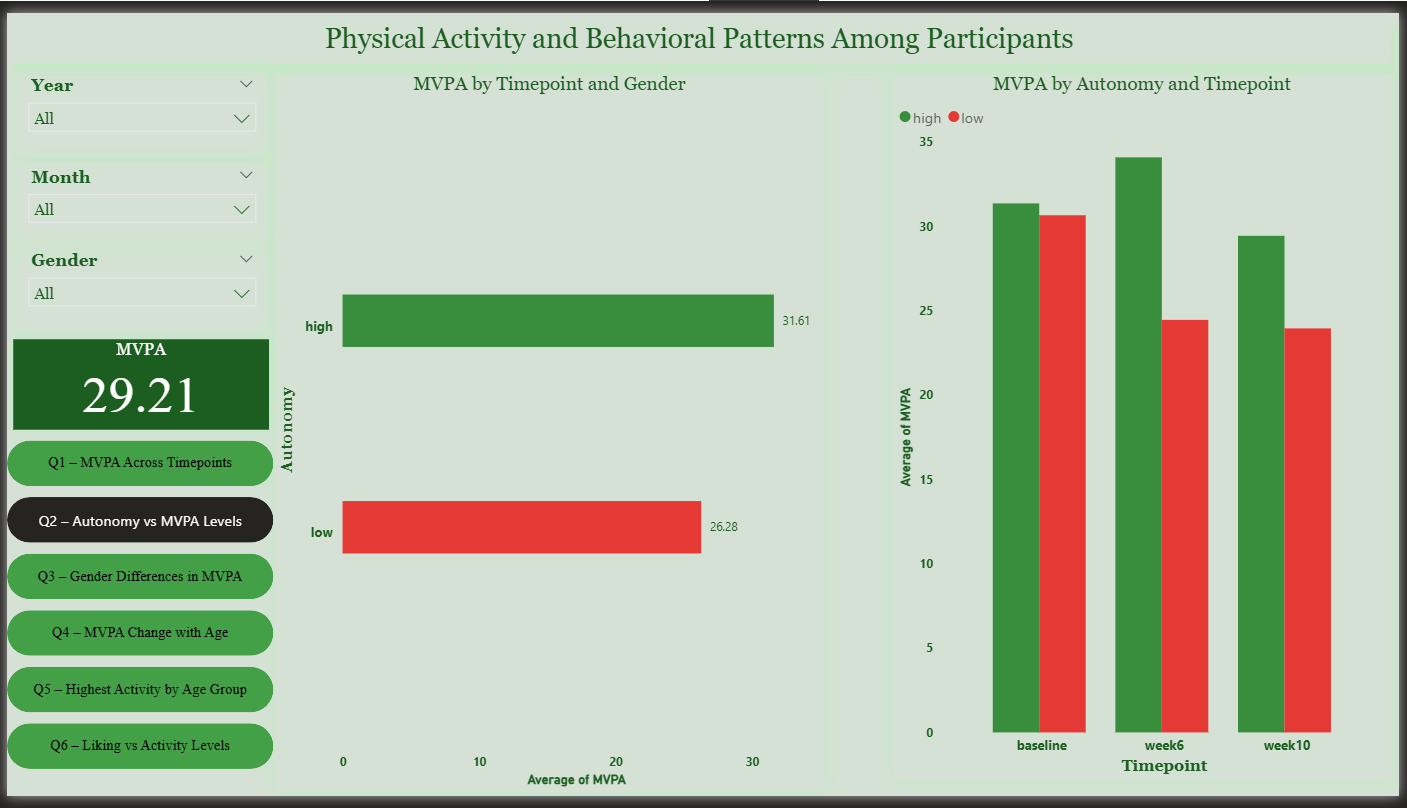

This screenshot's page, from the dashboard's own definition file:
{"tool":"powerbi","page":{"name":"Q2 – Autonomy vs MVPA Levels","canvas":[1280,720],"ordinal":1},"visuals":[{"type":"slicer","fields":{"Values":["ActivityData_Clean.File_Date.Variation.Date Hierarchy.Year"]},"box":[8.7,53.1,229.8,78.9],"z":0,"group":"g1"},{"type":"textbox","title":"Physical Activity and Behavioral Patterns Among Participants","box":[0,9.7,1272.8,37.4],"z":0},{"type":"clusteredBarChart","title":"MVPA by Timepoint and Gender","fields":{"Category":["ActivityData_Clean.Autonomy"],"Y":["Avg(ActivityData_Clean.MVPA)"]},"box":[246,55.7,505.4,661.2],"z":1000},{"type":"slicer","fields":{"Values":["ActivityData_Clean.File_Date.Variation.Date Hierarchy.Month"]},"box":[8.7,136.8,229.8,78.9],"z":1000,"group":"g1"},{"type":"clusteredColumnChart","title":"MVPA by Autonomy and Timepoint","fields":{"Category":["ActivityData_Clean.Timepoint"],"Y":["Avg(ActivityData_Clean.MVPA)"],"Series":["ActivityData_Clean.Autonomy"]},"box":[814.8,55.7,457.5,650.1],"z":2000},{"type":"slicer","fields":{"Values":["ActivityData_Clean.Gender"]},"box":[9.1,214.3,229.9,79.2],"z":2000,"group":"g1"},{"type":"group","id":"g1","title":"Group 1","box":[0,53.1,245.5,648.2],"z":3000},{"type":"kpi","title":"MVPA","fields":{"Indicator":["Avg(ActivityData_Clean.MVPA)"],"TrendLine":["LikingData_Clean.Week"]},"box":[6,299.9,235.1,83.1],"z":5000,"group":"g1"},{"type":"pageNavigator","box":[0,393.5,245.5,307.8],"z":6001,"group":"g1"}]}

Visuals, with their boxes in screenshot pixels (x1, y1, x2, y2), scaled from the page's 1280x720 canvas onto the 1407x808 screenshot:
slicer - ActivityData_Clean.File_Date.Variation.Date Hierarchy.Year: 10,60,262,148
"Physical Activity and Behavioral Patterns Among Participants" textbox: 0,11,1399,53
"MVPA by Timepoint and Gender" clusteredBarChart: 270,63,826,805
slicer - ActivityData_Clean.File_Date.Variation.Date Hierarchy.Month: 10,154,262,242
"MVPA by Autonomy and Timepoint" clusteredColumnChart: 896,63,1399,792
slicer - ActivityData_Clean.Gender: 10,240,263,329
"Group 1" group: 0,60,270,787
"MVPA" kpi: 7,337,265,430
pageNavigator: 0,442,270,787
